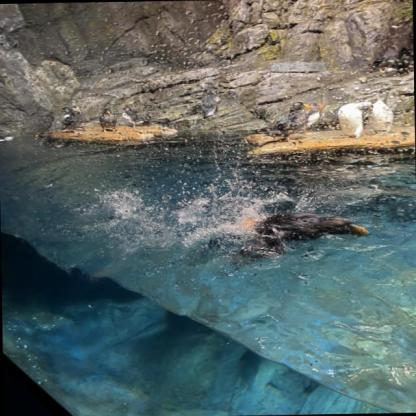puffin: (235, 208, 371, 262), (252, 100, 312, 142), (336, 101, 372, 138), (366, 97, 393, 134), (56, 104, 84, 134), (370, 42, 398, 70), (196, 89, 221, 118), (119, 104, 149, 128), (34, 132, 73, 148), (305, 102, 324, 132), (394, 48, 413, 75), (100, 107, 118, 133)
